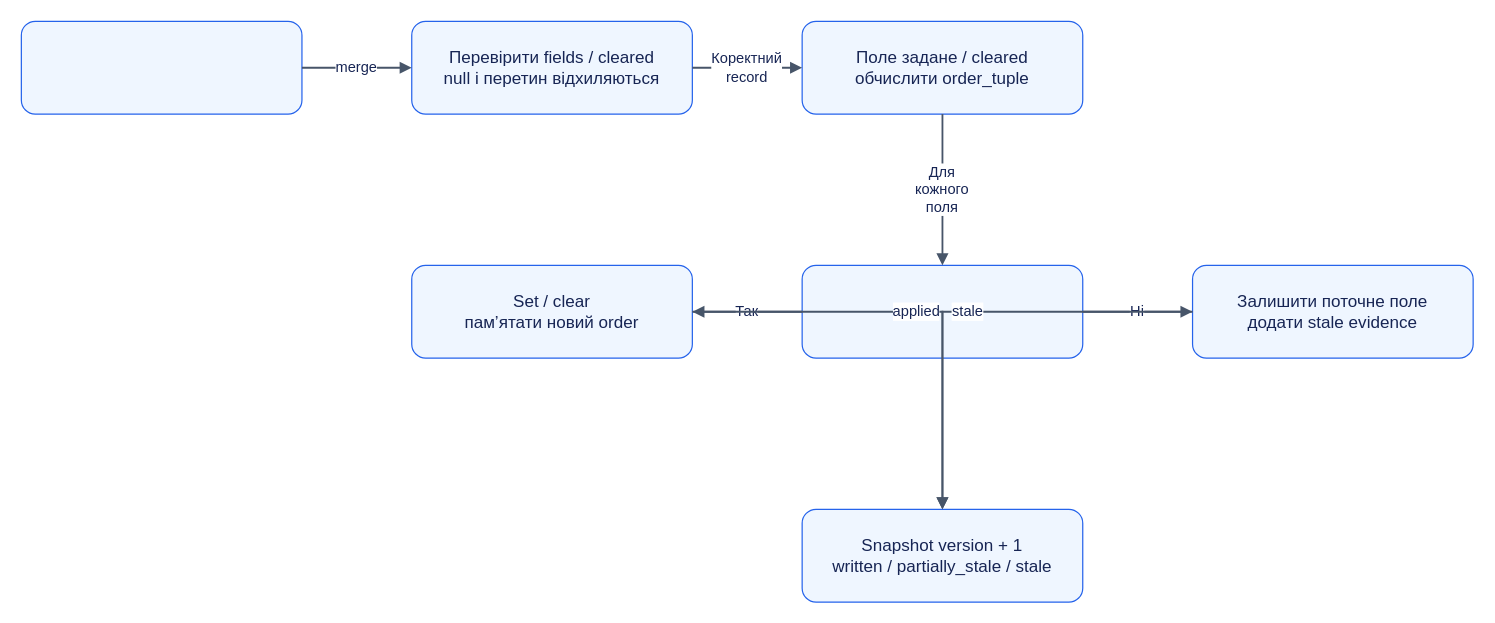
Image size: 1495x623. Some labels were removed from this diagram. Here are the shapes that lost their labels. From the top down, the centre of each, then its label:
the point at 161,67: EntityRecord + snapshot
the point at 942,311: Новіше за field order?
